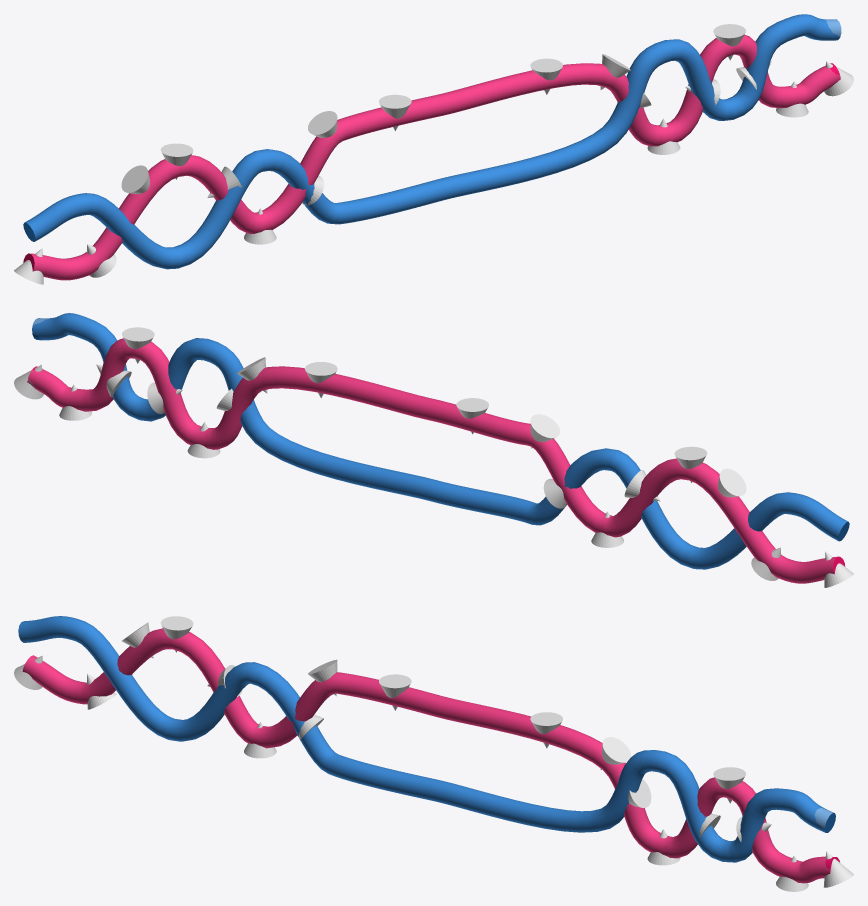
File: doubleHelixMesh.fbx
The picture shows the model from 3 angles, top to bottom: view 1: azimuth 30°, elevation 25°; view 2: azimuth 150°, elevation 25°; view 3: azimuth 330°, elevation 25°; orthographic projection.
Visible parts, largest first — view 1: BezierCurveBottom, BezierCurveTop, Cone01.002, Cone01.007, Cone01.008, Cone01.003, Cone01.014, Cone01.009; view 2: BezierCurveTop, BezierCurveBottom, Cone01.007, Cone01.002, Cone01.014, Cone01.003, Cone01.009, Cone01.008; view 3: BezierCurveBottom, BezierCurveTop, Cone01.010, Cone01.008, Cone01.003, Cone01.009, Cone01.014, Cone01.017.
Part boxes in pixels (left/top/right/bottom): BezierCurveBottom: left=23, top=14, right=841, bottom=269; BezierCurveTop: left=23, top=34, right=840, bottom=280; Cone01.002: left=121, top=165, right=149, bottom=194; Cone01.007: left=308, top=111, right=337, bottom=137; Cone01.008: left=379, top=94, right=411, bottom=130; Cone01.003: left=160, top=143, right=193, bottom=179; Cone01.014: left=713, top=24, right=745, bottom=60; Cone01.009: left=530, top=58, right=562, bottom=94; BezierCurveTop: left=27, top=338, right=845, bottom=583; BezierCurveBottom: left=32, top=313, right=849, bottom=569; Cone01.007: left=530, top=414, right=559, bottom=448; Cone01.002: left=718, top=468, right=746, bottom=497; Cone01.014: left=122, top=327, right=154, bottom=363; Cone01.003: left=674, top=446, right=707, bottom=482; Cone01.009: left=305, top=362, right=337, bottom=397; Cone01.008: left=456, top=398, right=488, bottom=434; BezierCurveBottom: left=18, top=616, right=835, bottom=862; BezierCurveTop: left=22, top=628, right=839, bottom=883; Cone01.010: left=600, top=737, right=630, bottom=769; Cone01.008: left=379, top=674, right=411, bottom=710; Cone01.003: left=160, top=616, right=193, bottom=652; Cone01.009: left=530, top=712, right=562, bottom=748; Cone01.014: left=713, top=767, right=745, bottom=803; Cone01.017: left=823, top=851, right=853, bottom=887.
Bounding box in the file's own units: 21.87 × 0.7762 × 2.93.
Materials: 2 (2 with a texture image).
